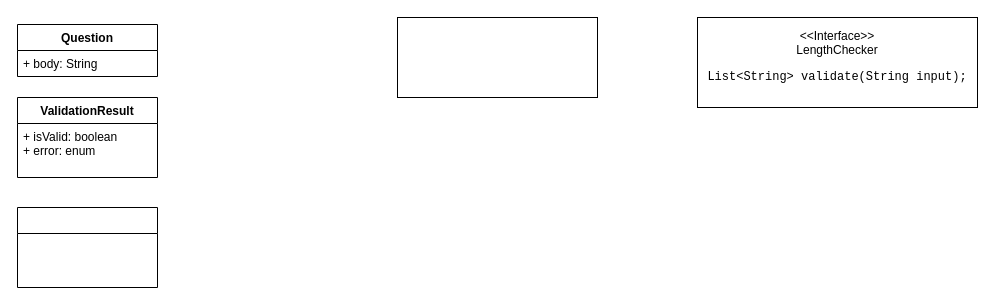
Some shapes in this 995 by 305 pixel diagram are drawn without their labels. The centre of each missing label's shape, as x and y in pixels:
"<<Interface>> ValidationInput String getTextToValidate();" goes at point 497,57.
"ValidationManager" goes at point 87,247.
